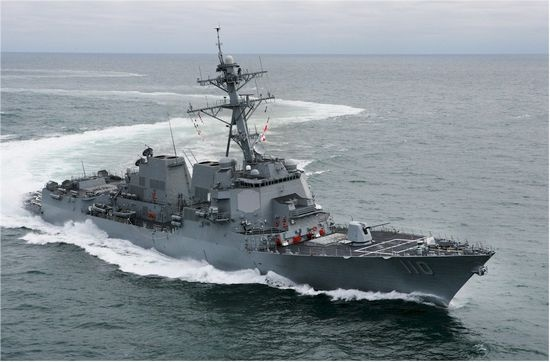warship: (13, 28, 501, 307)
